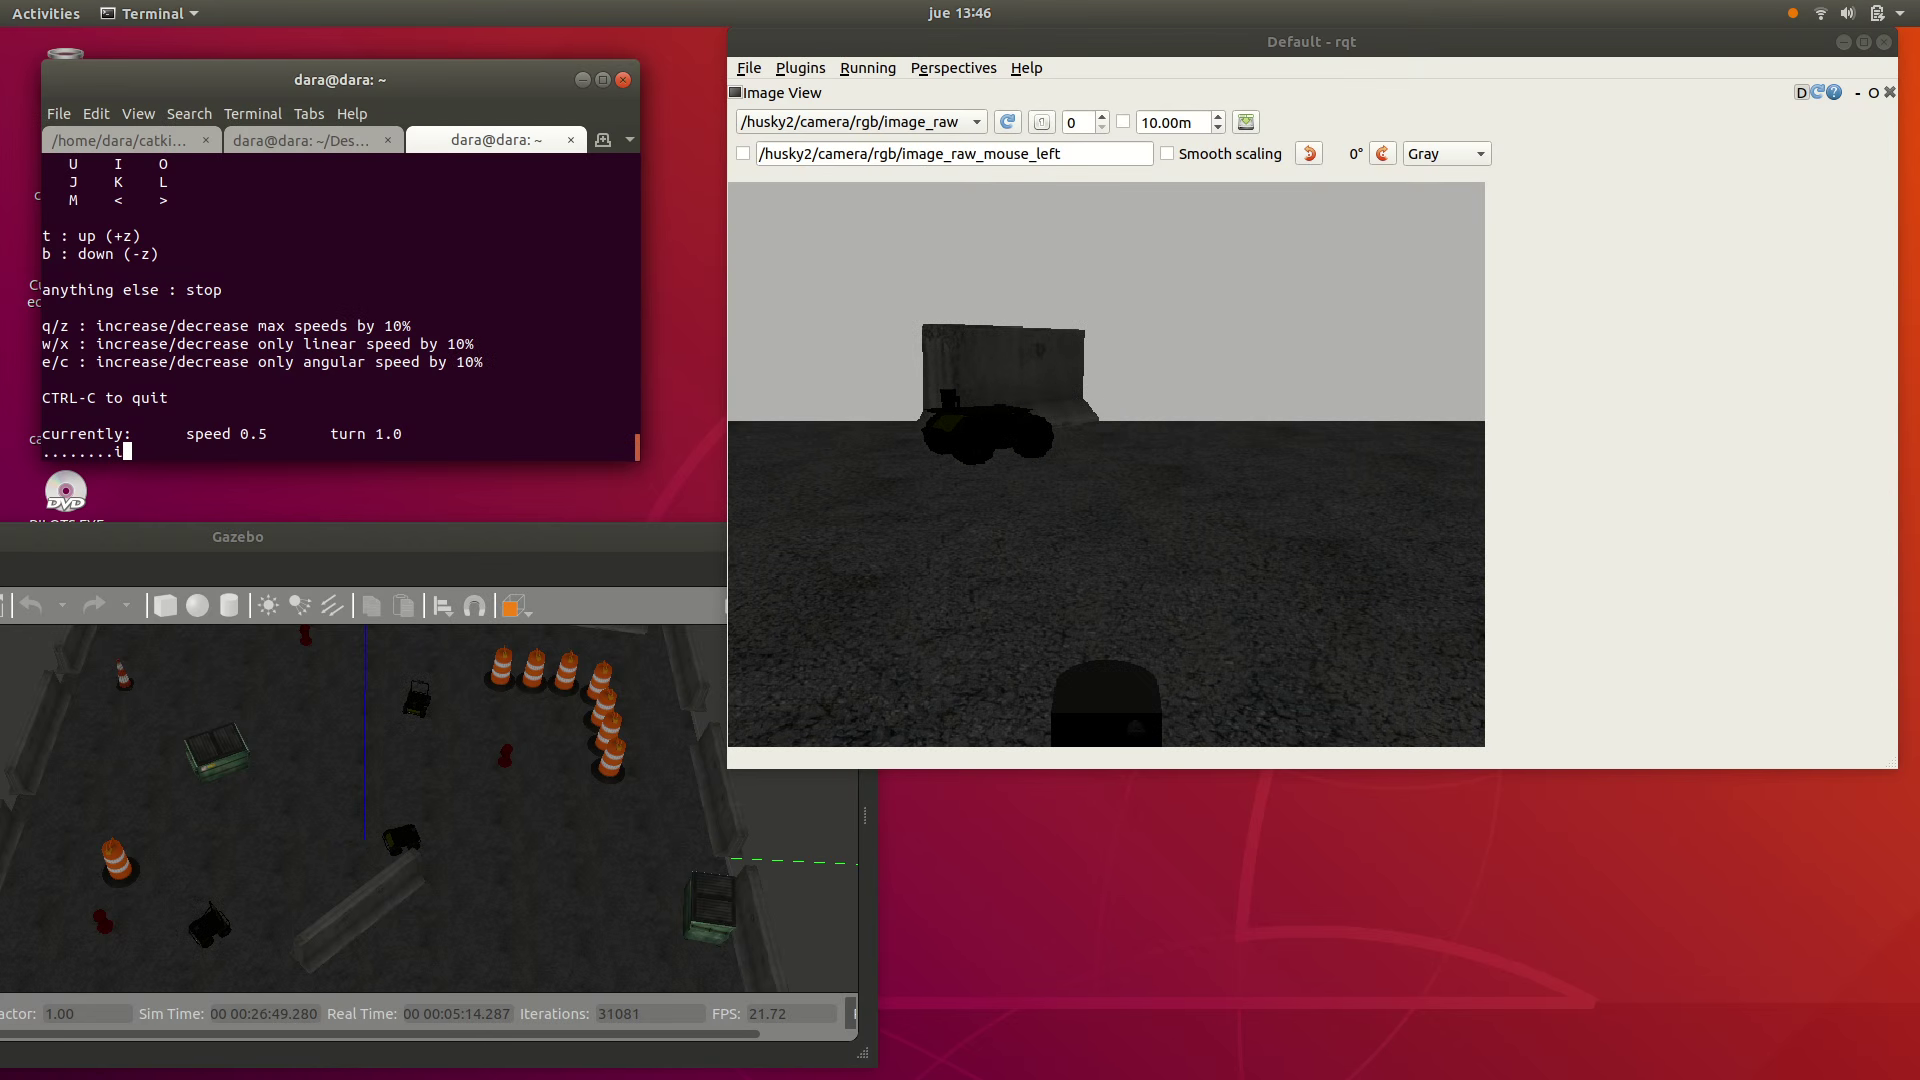husky: (922, 405, 1055, 466), (188, 911, 231, 948), (382, 825, 422, 856), (403, 691, 431, 718)
